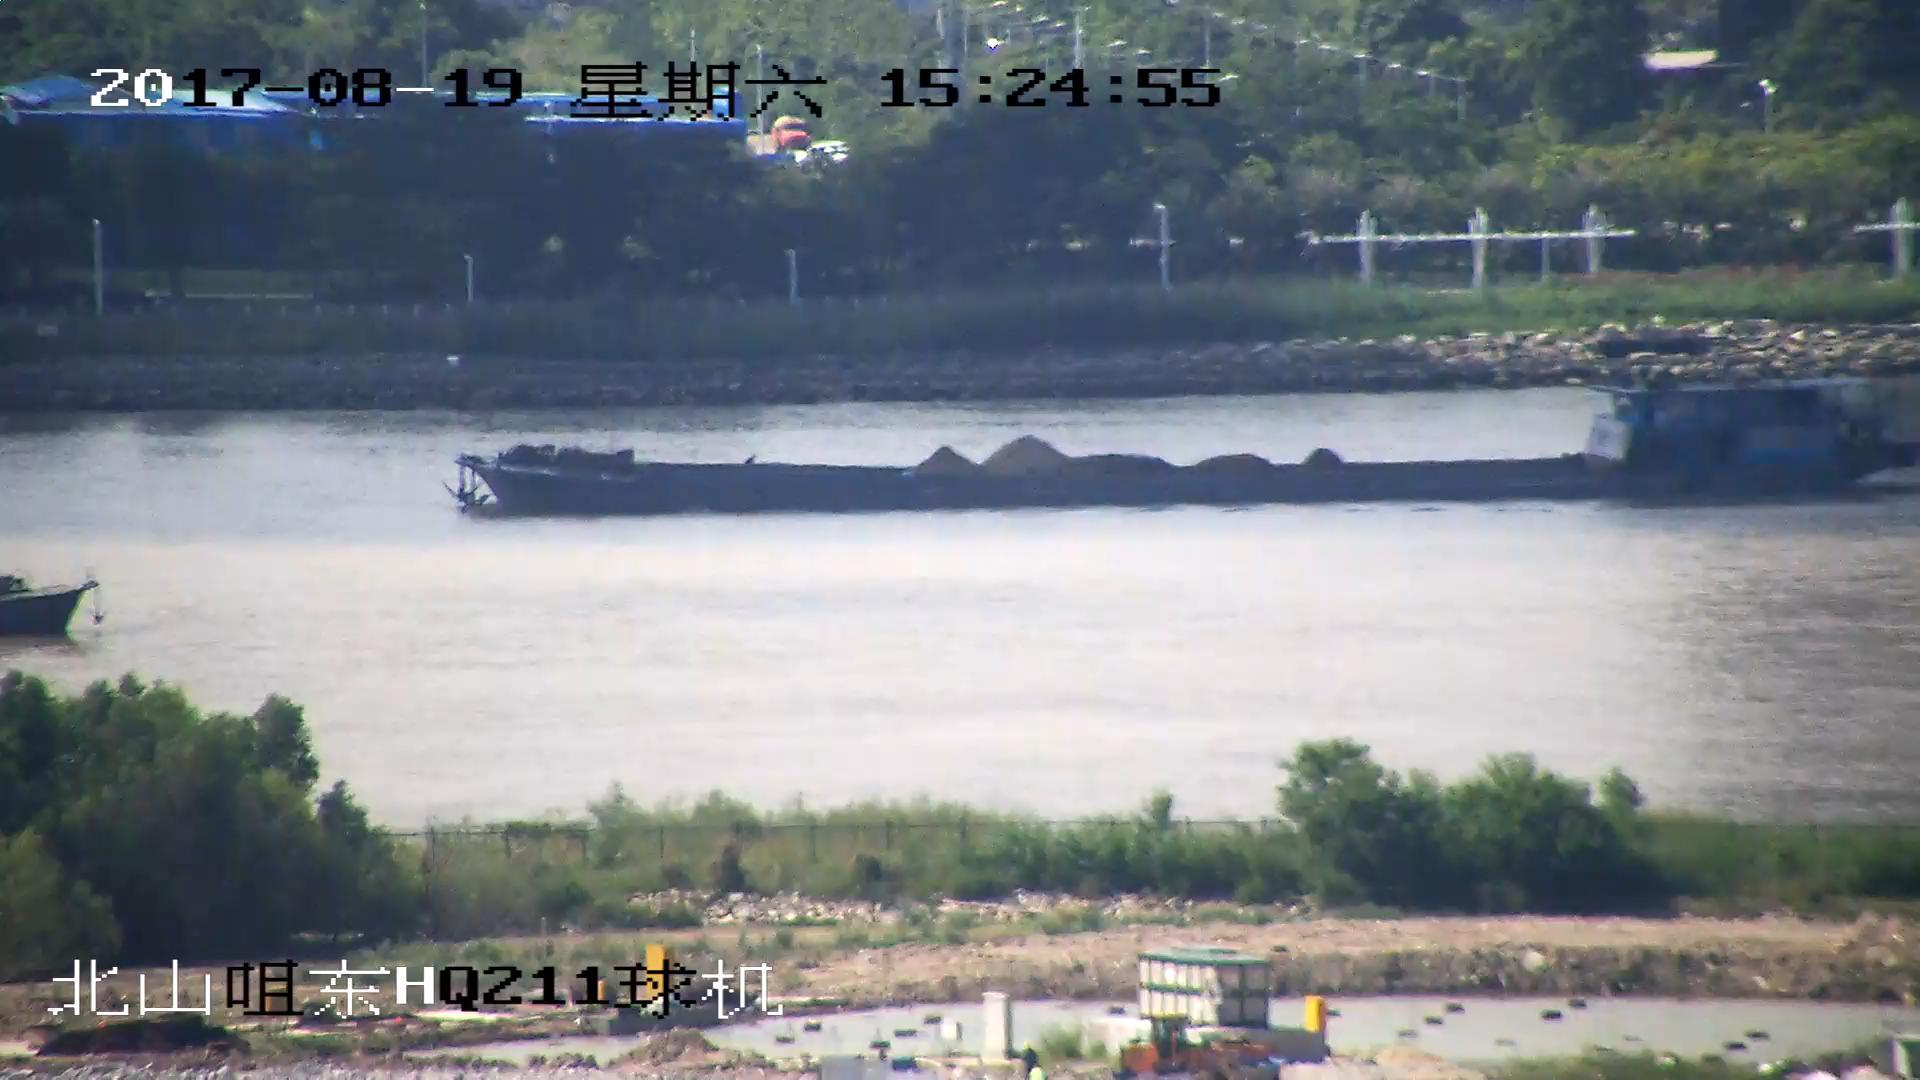Ship: (459, 367, 1884, 524)
